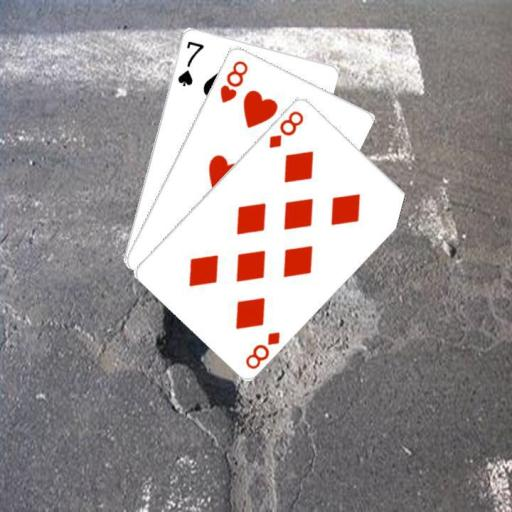7S: (174, 37, 205, 87)
8D: (265, 107, 305, 150), (242, 328, 282, 370)
8H: (217, 57, 249, 104)
